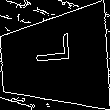L_W: (33, 42, 76, 77)
